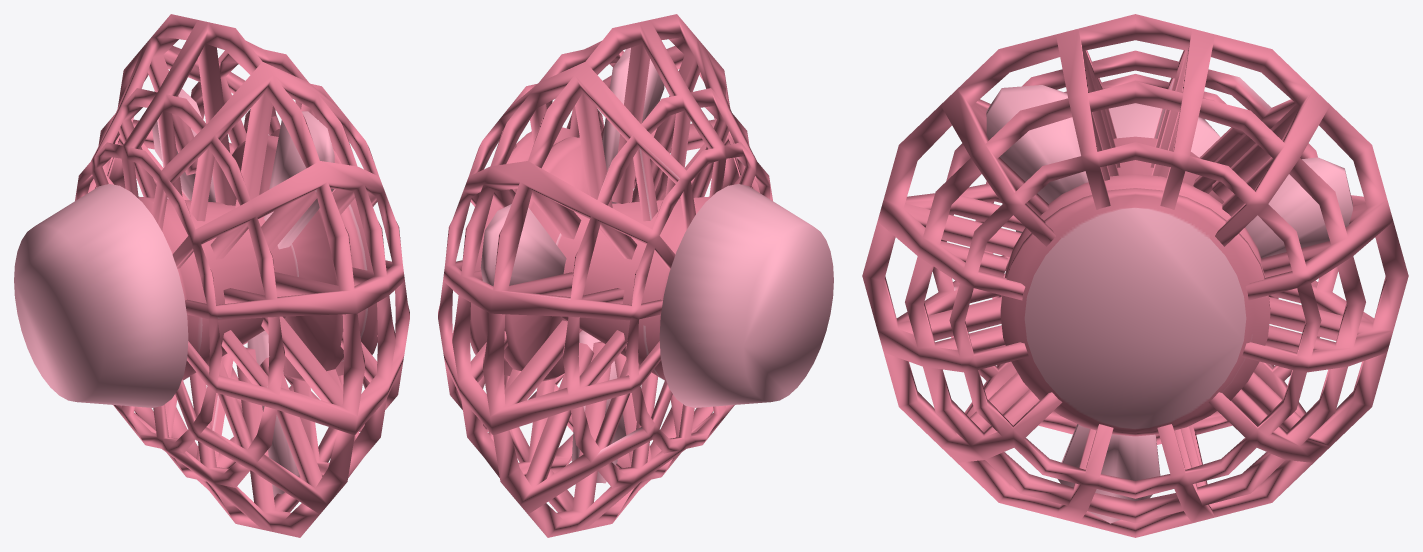
The model's file is fan.fbx.
3 renders of one model, left to right at view 1: azimuth 30°, elevation 25°; view 2: azimuth 150°, elevation 25°; view 3: azimuth 270°, elevation 25°, orthographic. The views are drawn at different scales.
Parts seen in each view (by area): view 1: Cylinder.004; view 2: Cylinder.004; view 3: Cylinder.004.
Boxes of the visible parts, x1=… form: Cylinder.004: x1=14, y1=14, x2=409, y2=537; Cylinder.004: x1=438, y1=14, x2=833, y2=537; Cylinder.004: x1=862, y1=14, x2=1408, y2=537.
Size of the model in its own units: 31.99 by 56.12 by 53.05.
Materials: 1 (1 with a texture image).
